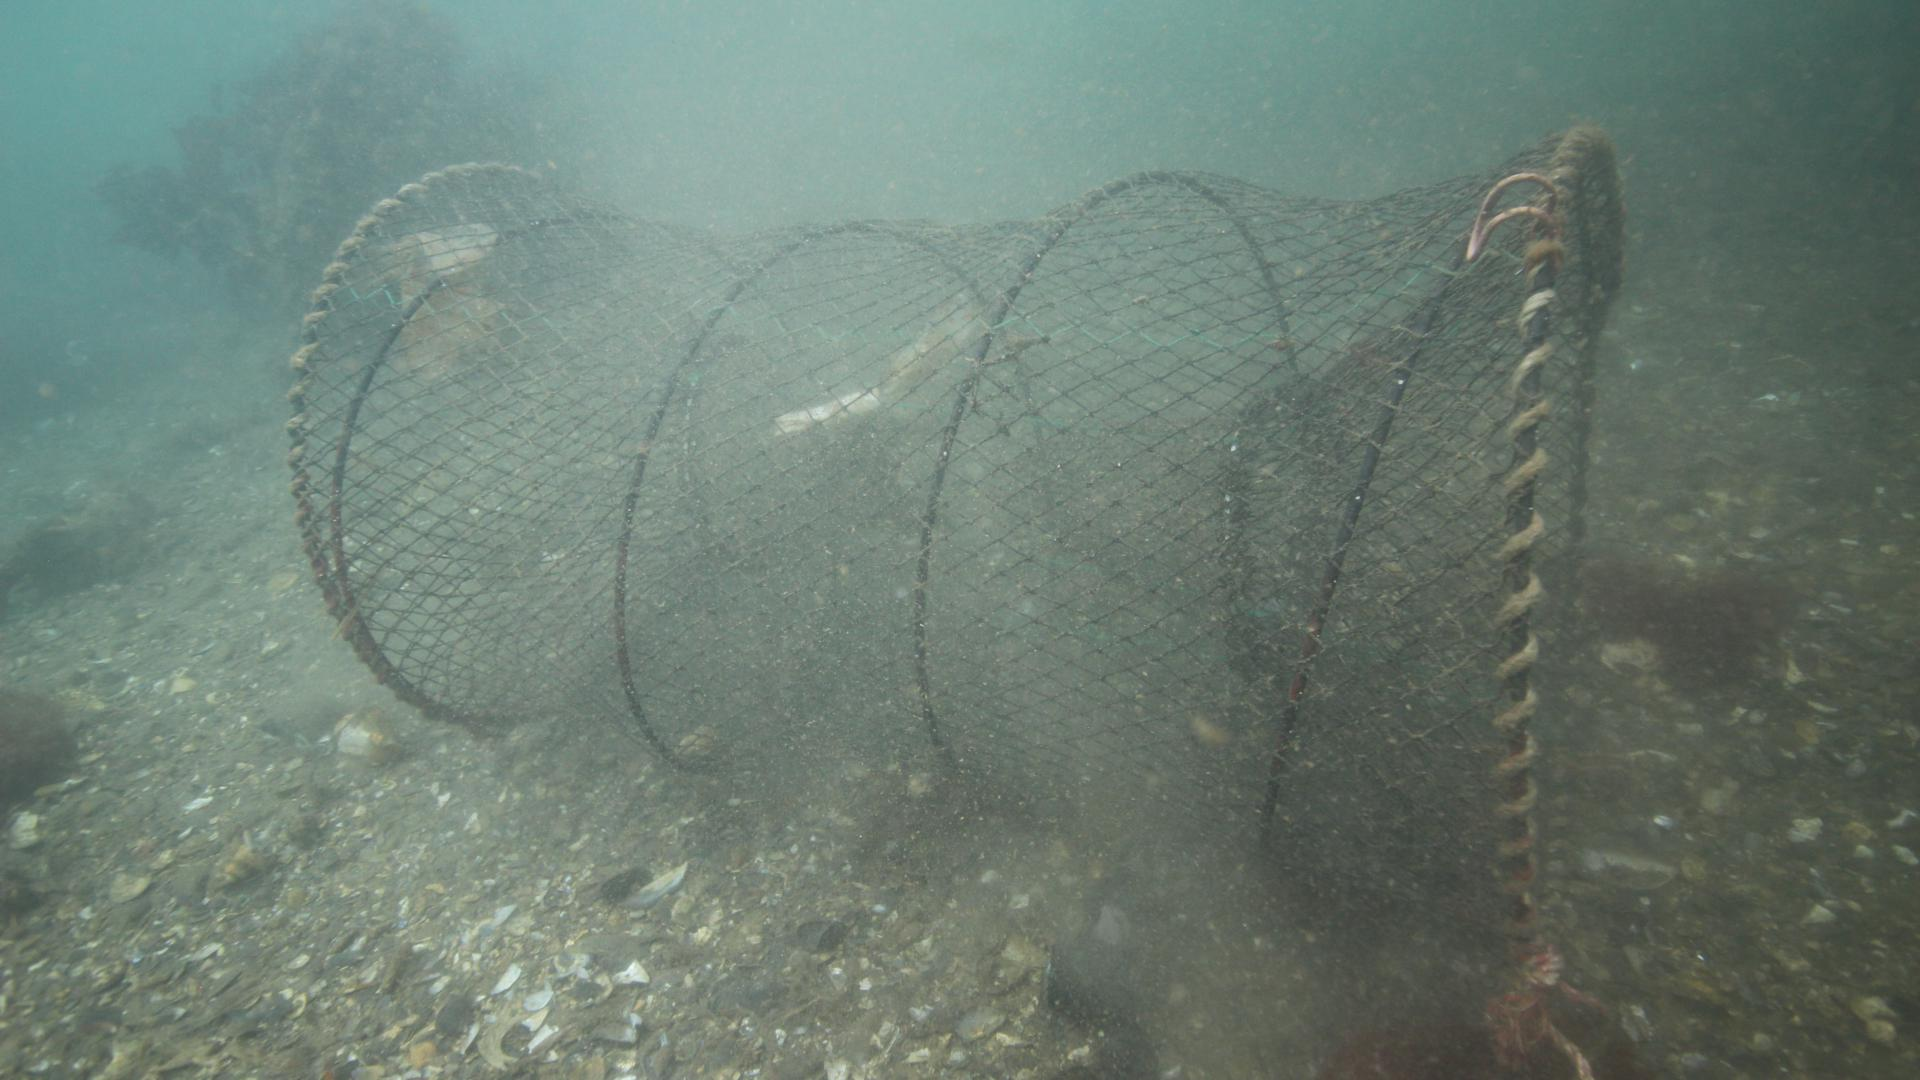spring fish trap: (284, 123, 1630, 993)
